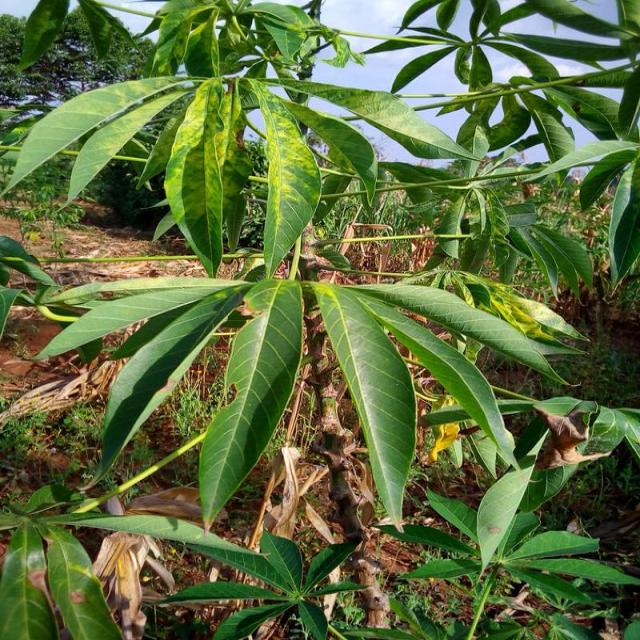cassava leaf: (309, 278, 418, 532), (198, 276, 305, 530)
